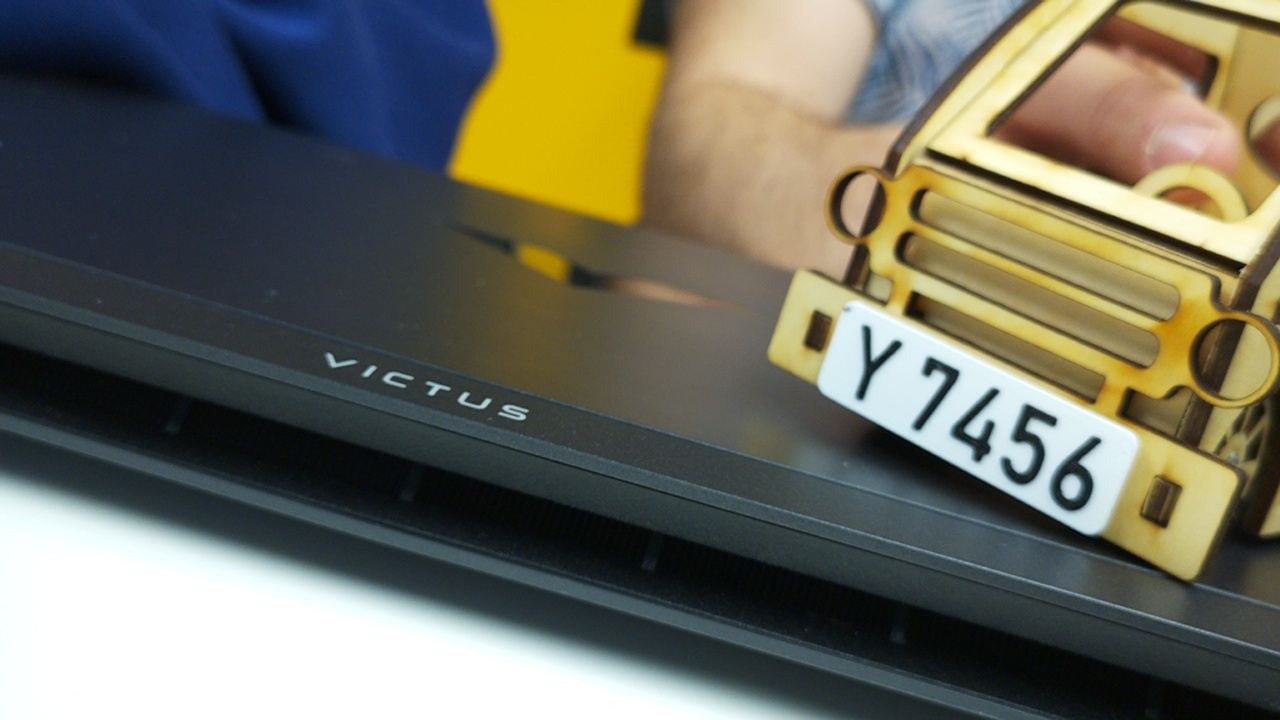license_plate: (813, 297, 1143, 541)
